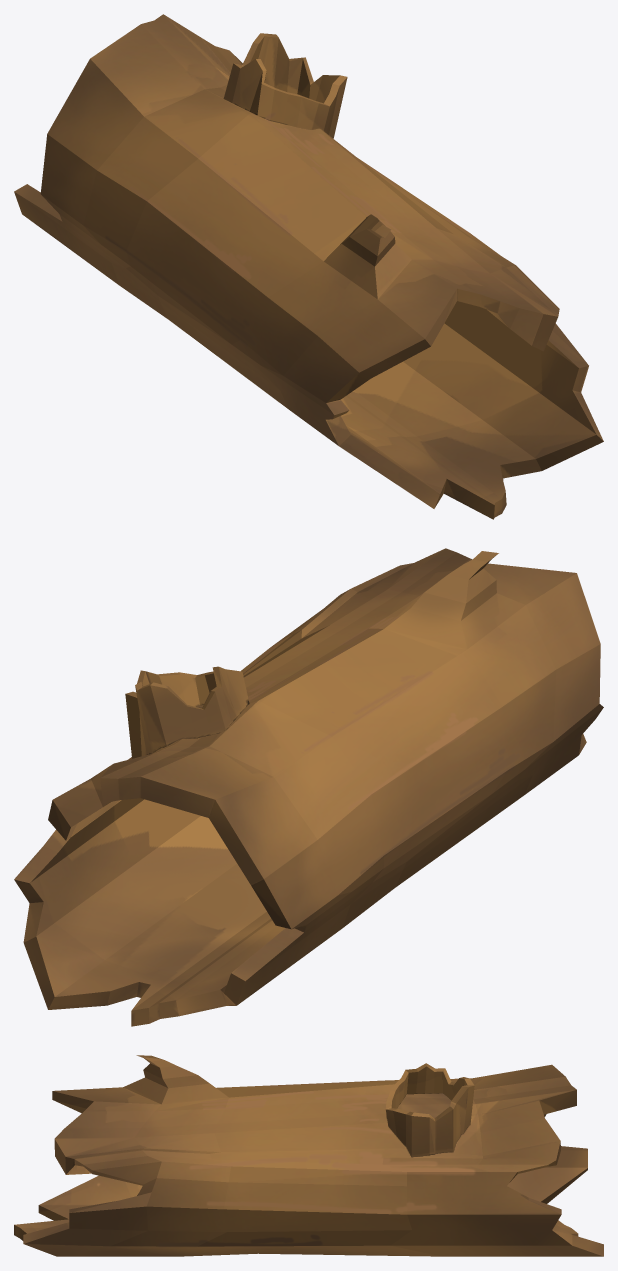
File: batang kayu1.fbx
3 renders of one model, top to bottom at view 1: azimuth 30°, elevation 25°; view 2: azimuth 150°, elevation 25°; view 3: azimuth 270°, elevation 25°, orthographic. The views are drawn at different scales.
Visible parts, largest first — view 1: btg ky3; view 2: btg ky3; view 3: btg ky3.
Boxes of the visible parts, <box> form: btg ky3: <box>14,14,603,519</box>; btg ky3: <box>14,548,603,1026</box>; btg ky3: <box>14,1055,603,1256</box>.
Bounding box in the file's own units: 52.94 × 52.08 × 147.
